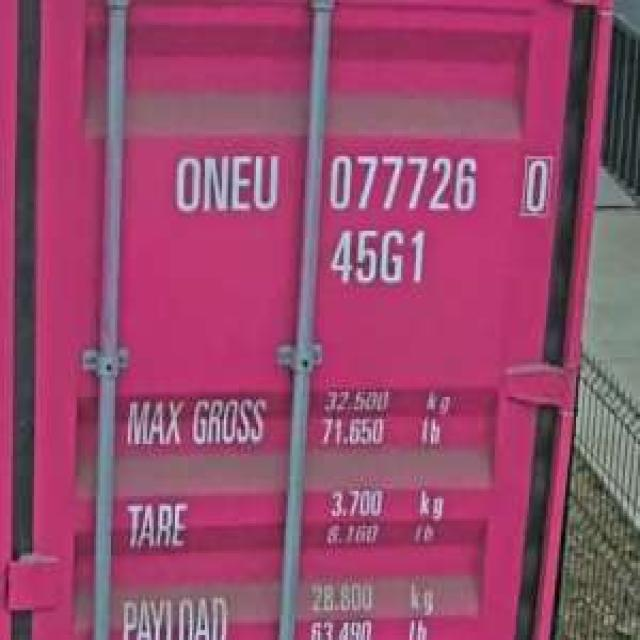dv: (518, 149, 552, 216)
owner: (168, 146, 284, 218)
serial: (322, 146, 484, 216)
size: (324, 221, 431, 290)
